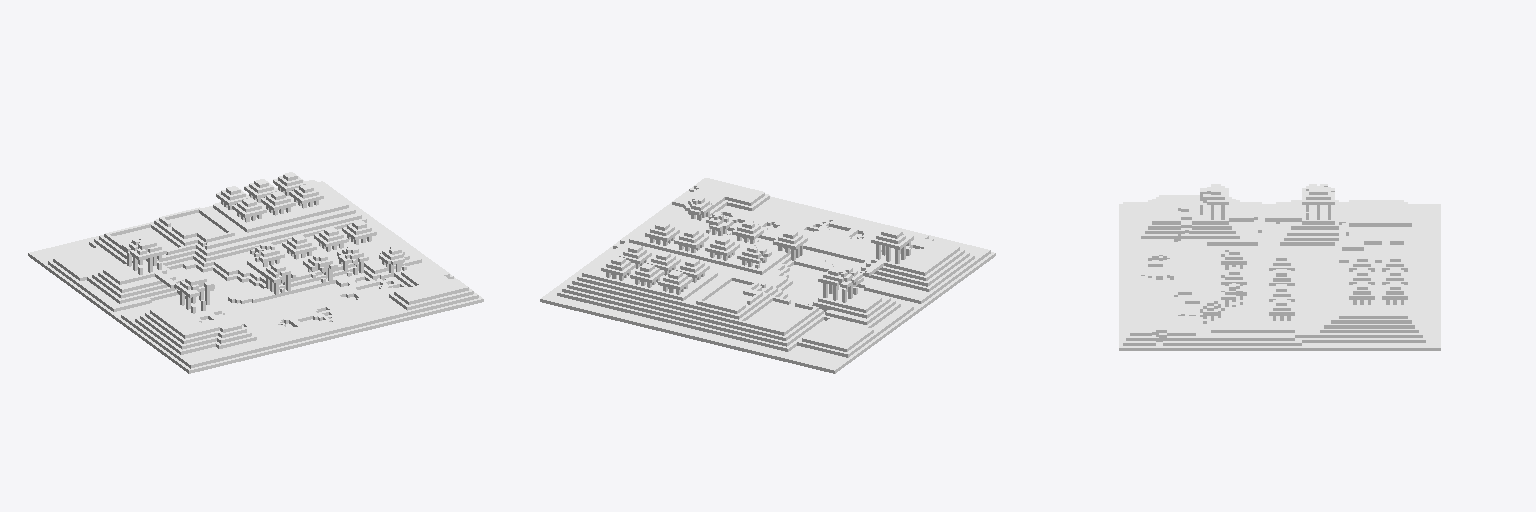
The model's file is Ciclopes.obj.
3 views of the same model, side by side, from view 1: azimuth 30°, elevation 25°; view 2: azimuth 150°, elevation 25°; view 3: azimuth 270°, elevation 25° (orthographic).
Parts seen in each view (by area): view 1: object 1; view 2: object 1; view 3: object 1.
Boxes of the visible parts, x1=… form: object 1: x1=28, y1=172, x2=483, y2=373; object 1: x1=540, y1=178, x2=995, y2=373; object 1: x1=1119, y1=184, x2=1440, y2=350.
Size of the model in its own units: 9.3 by 1.4 by 8.8.